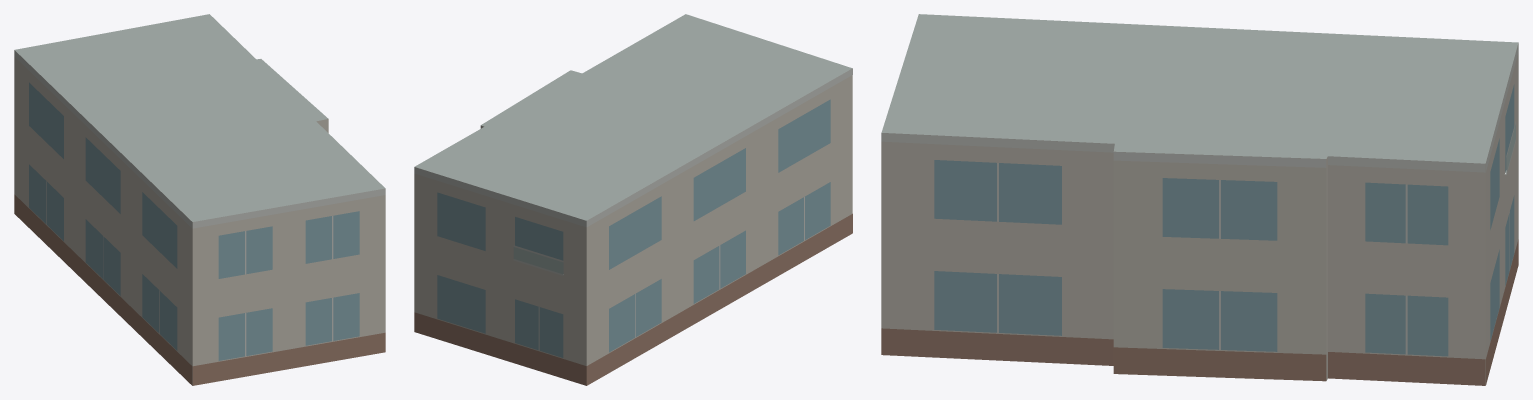
Rendered from survey-upis-32682299.glb.
3 views of the same model, side by side, from view 1: azimuth 30°, elevation 25°; view 2: azimuth 150°, elevation 25°; view 3: azimuth 270°, elevation 25° (orthographic). The views are drawn at different scales.
Parts seen in each view (by area): view 1: survey-upis-32682299.tmp; view 2: survey-upis-32682299.tmp; view 3: survey-upis-32682299.tmp.
Boxes of the visible parts, x1=… form: survey-upis-32682299.tmp: x1=14, y1=14, x2=385, y2=385; survey-upis-32682299.tmp: x1=414, y1=14, x2=852, y2=385; survey-upis-32682299.tmp: x1=881, y1=14, x2=1518, y2=385.
Size of the model in its own units: 8.82 by 6.1 by 15.87.
